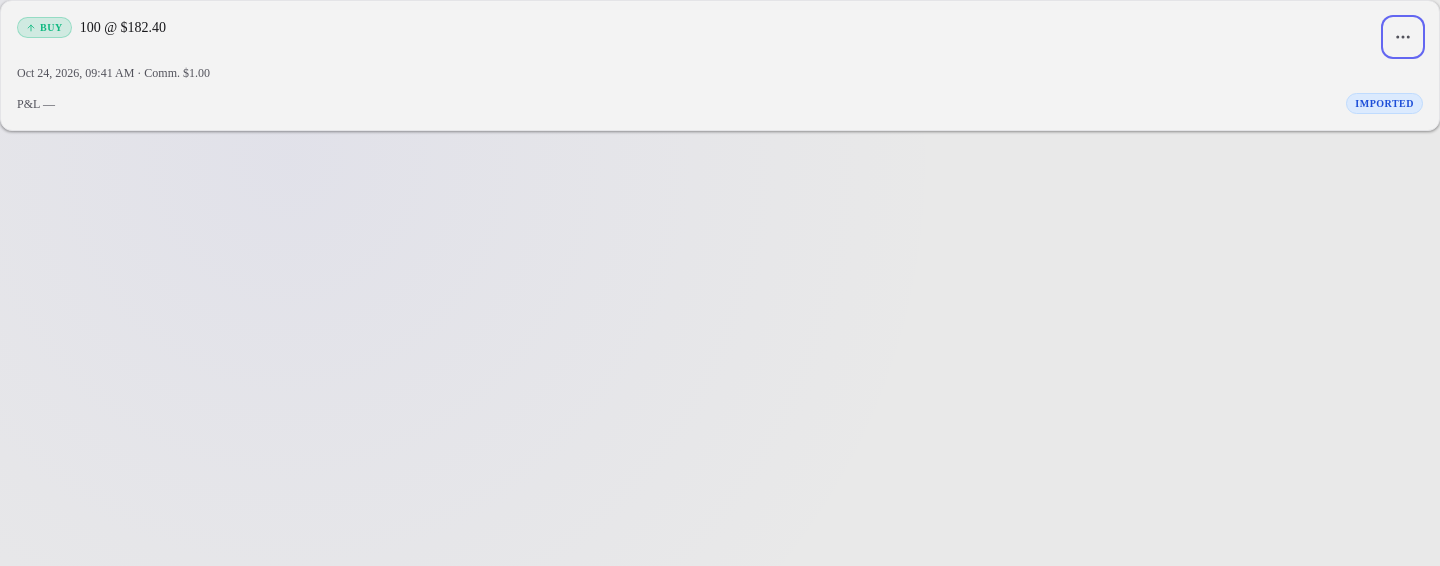
Test: ExecutionLegCard editing › rejects invalid Commission without sending a mutation
Press Enter
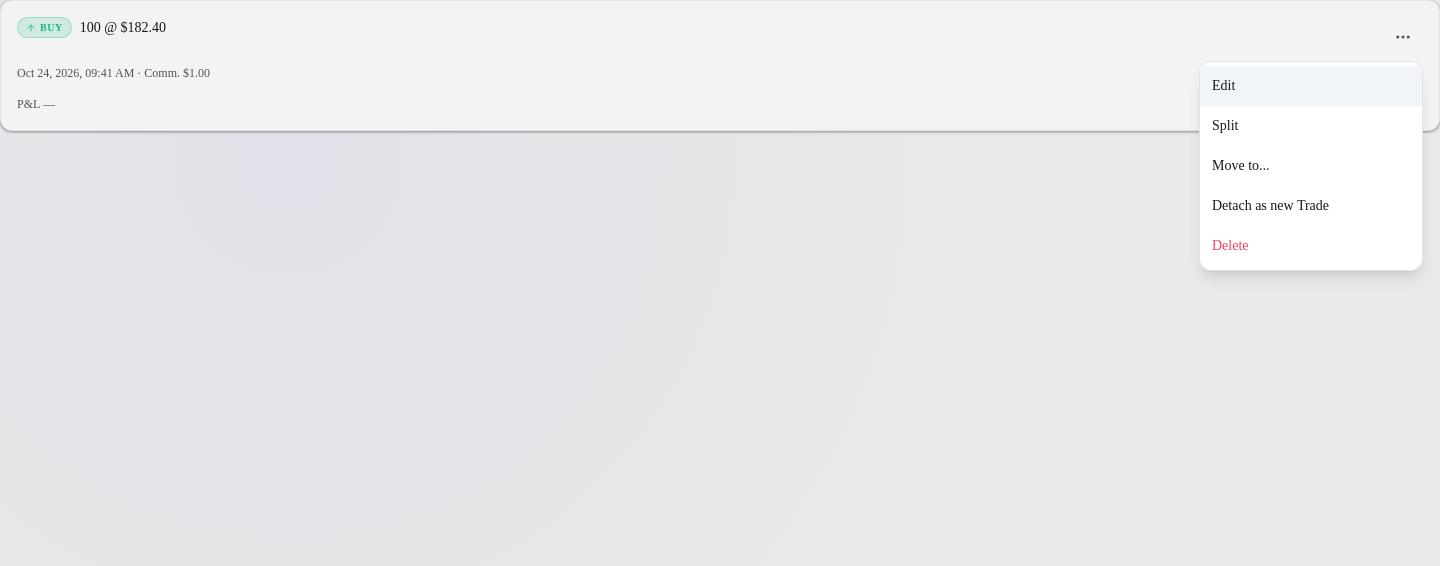
Click the menu item "Edit" at (1311, 86), box [1200, 66, 1422, 106]
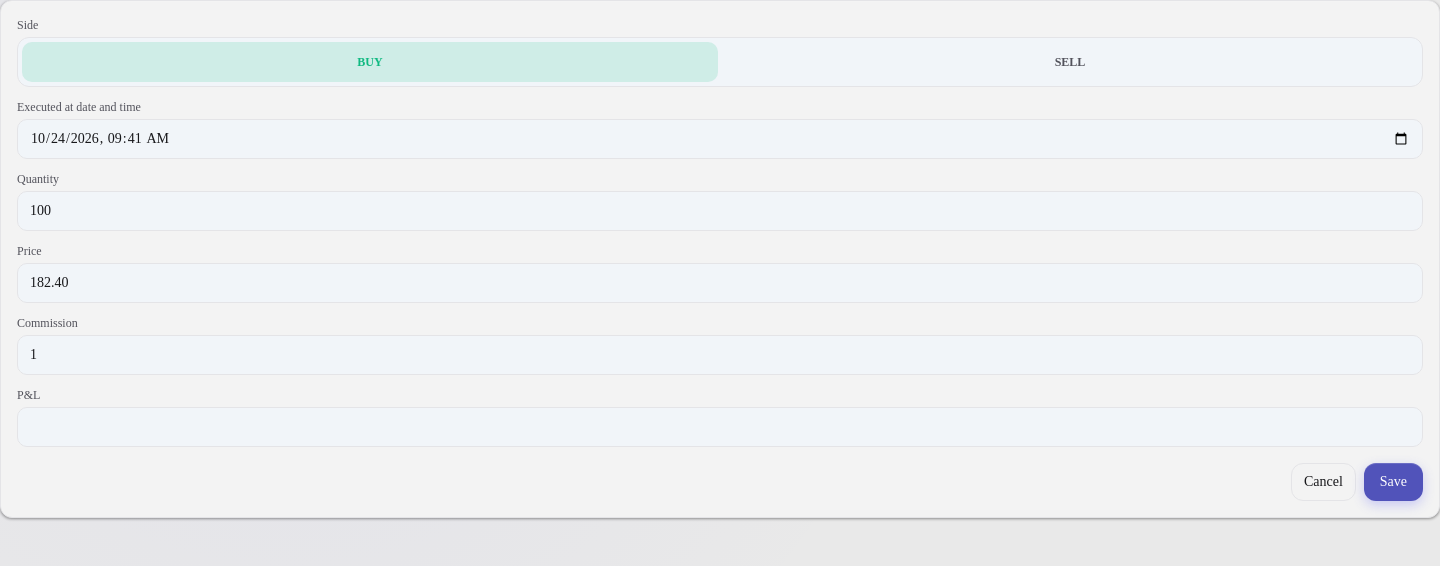
Clear the number field labelled "Commission" at (720, 355), box [17, 335, 1423, 375]
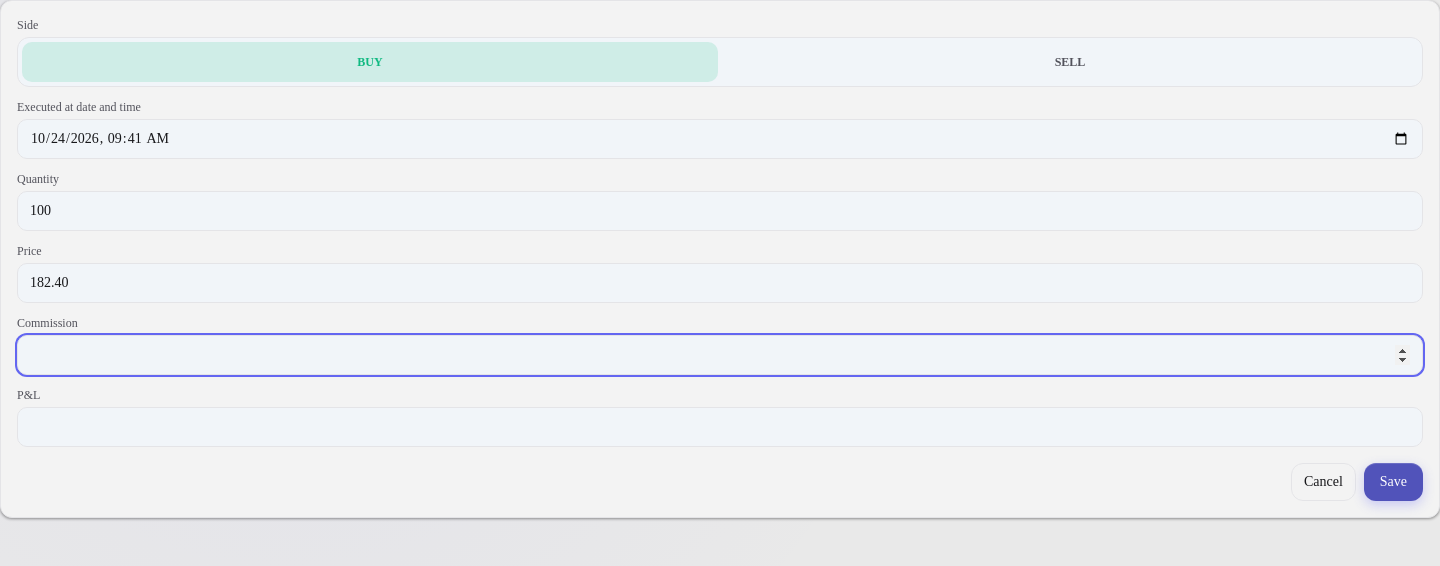
Click the button "Save" at (1393, 482), box [1364, 463, 1423, 501]
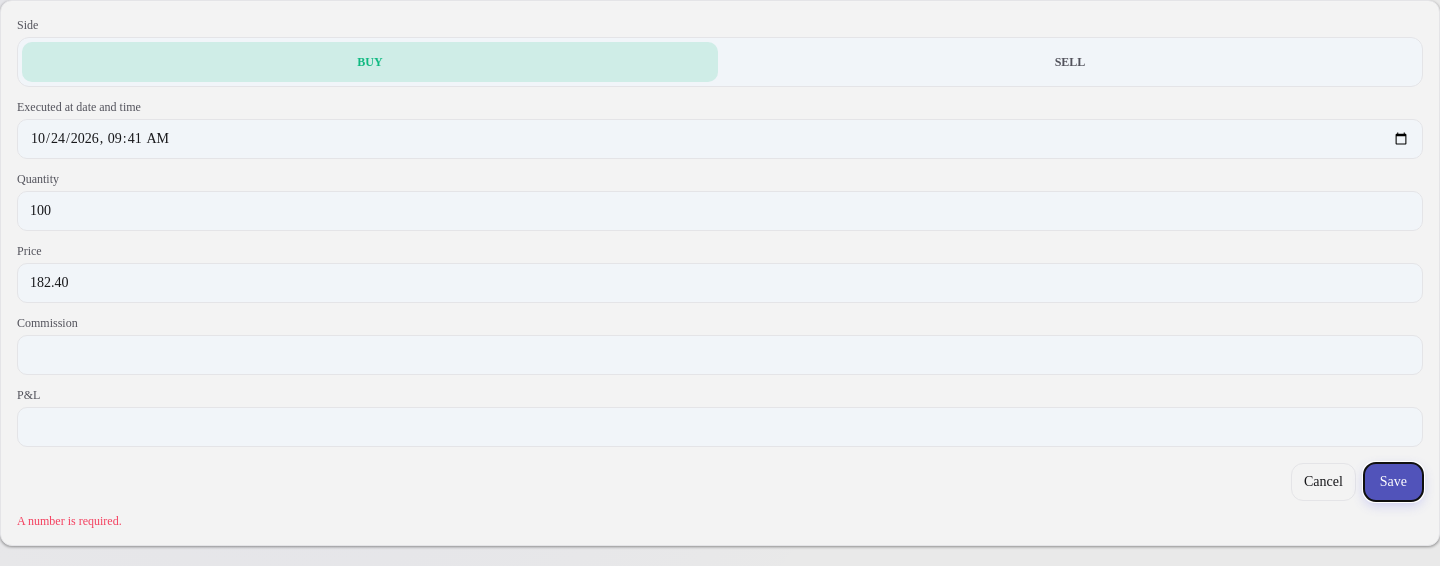
Expected: the form named "Edit execution" is shown
Expected: the message reads "A number is required.", [17, 514, 122, 528]
